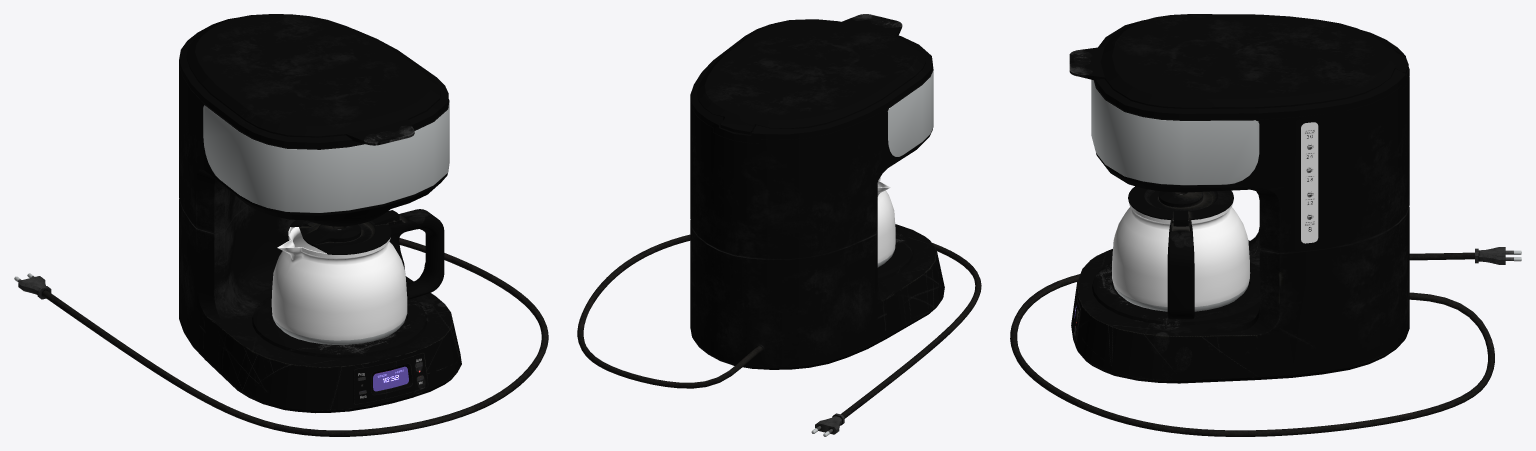
File: coffe_machine.fbx
3 renders of one model, left to right at view 1: azimuth 30°, elevation 25°; view 2: azimuth 150°, elevation 25°; view 3: azimuth 270°, elevation 25°, orthographic. The views are drawn at different scales.
Visible parts, largest first — view 1: Body, Jar, Cable, JarCup, JarHold, Plug; view 2: Body, Cable, Jar, Plug; view 3: Body, Jar, Cable, JarCup, JarHold, Plug.
Part boxes in pixels (x1,y1,x2,y2): Body: [179, 14, 461, 413]; Jar: [271, 227, 407, 344]; Cable: [42, 238, 548, 436]; JarCup: [290, 210, 399, 254]; JarHold: [388, 209, 444, 299]; Plug: [14, 273, 51, 299]; Body: [690, 14, 944, 369]; Cable: [577, 234, 981, 418]; Jar: [877, 177, 895, 267]; Plug: [811, 413, 844, 436]; Body: [1069, 14, 1409, 383]; Jar: [1112, 194, 1250, 311]; Cable: [1010, 252, 1494, 436]; JarCup: [1128, 186, 1233, 226]; JarHold: [1167, 218, 1194, 319]; Plug: [1475, 247, 1521, 264].
Bounding box in the file's own units: 47.2 × 33.53 × 55.68.
8 materials, 8 textured.
